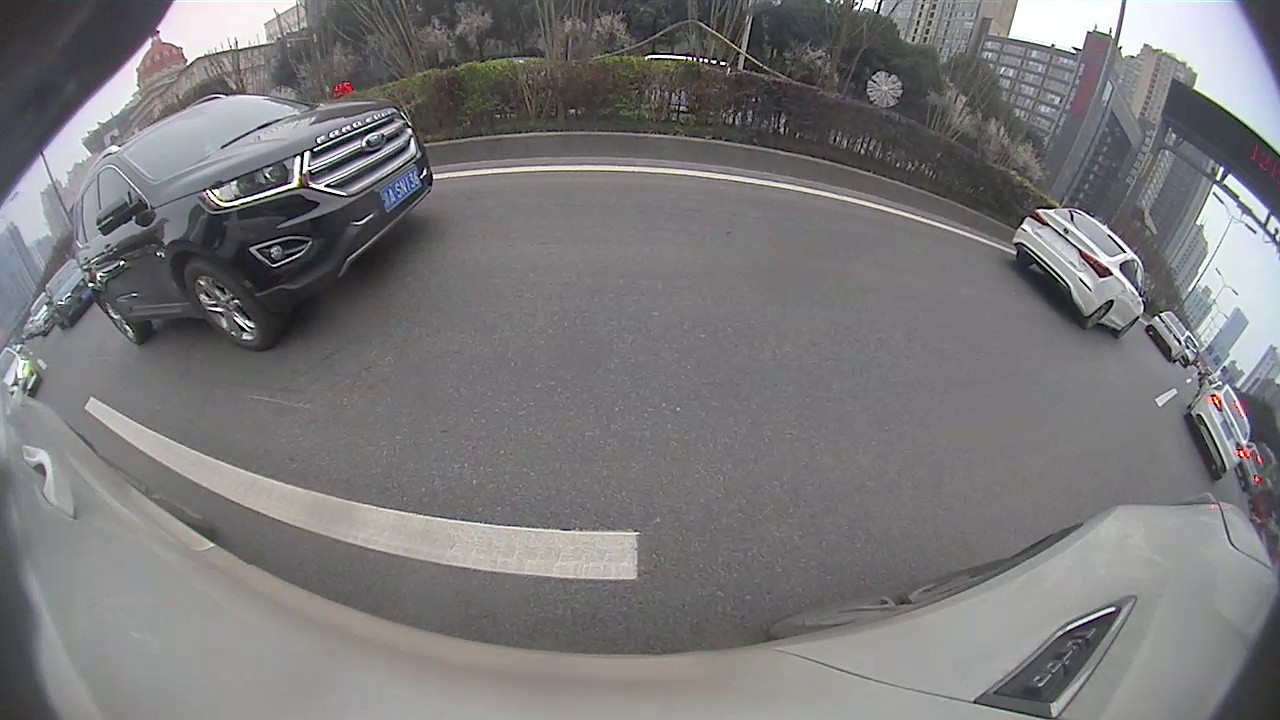car: (70, 94, 434, 352), (1008, 207, 1150, 339), (1183, 378, 1252, 482), (41, 261, 93, 331), (1145, 311, 1189, 365)
front: (178, 266, 265, 350)
rear: (99, 297, 137, 343), (1085, 305, 1113, 329)
